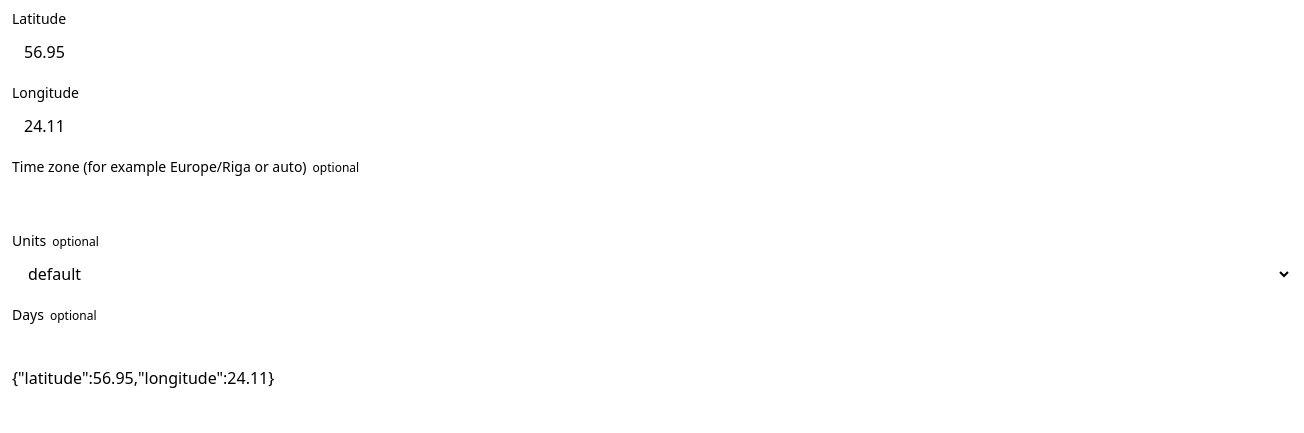
Test: edits weather settings with the provider's rules shown beside the fields
Replace the text in the field labelled "Latitude" with "120" at [652, 52], box [12, 34, 1292, 70]
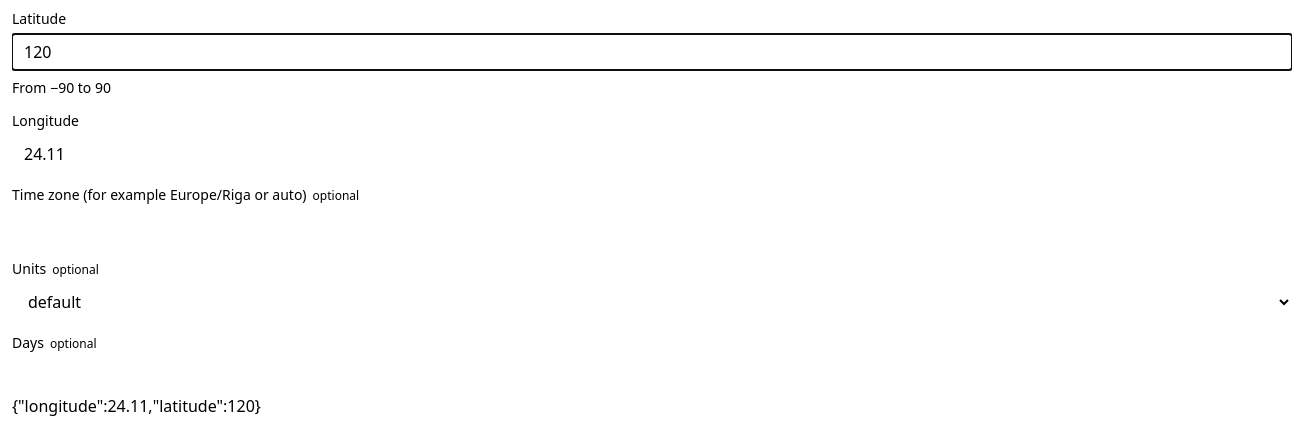
expect the text "From −90 to 90" is shown: met, box [12, 78, 111, 97]
Replace the text in the field labelled "Latitude" with "59,93" at [652, 52], box [12, 34, 1292, 70]
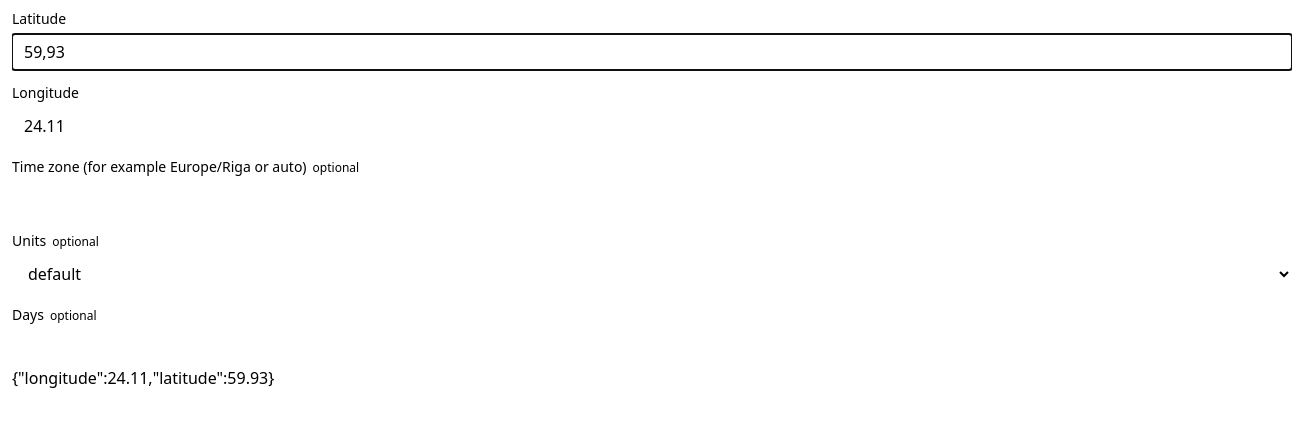
expect the text "From −90 to 90" is not shown: met
expect the text "{\"longitude\":24.11,\"latitude\":59.93}" shows "\"latitude\":59.93": met, box [12, 367, 274, 389]
